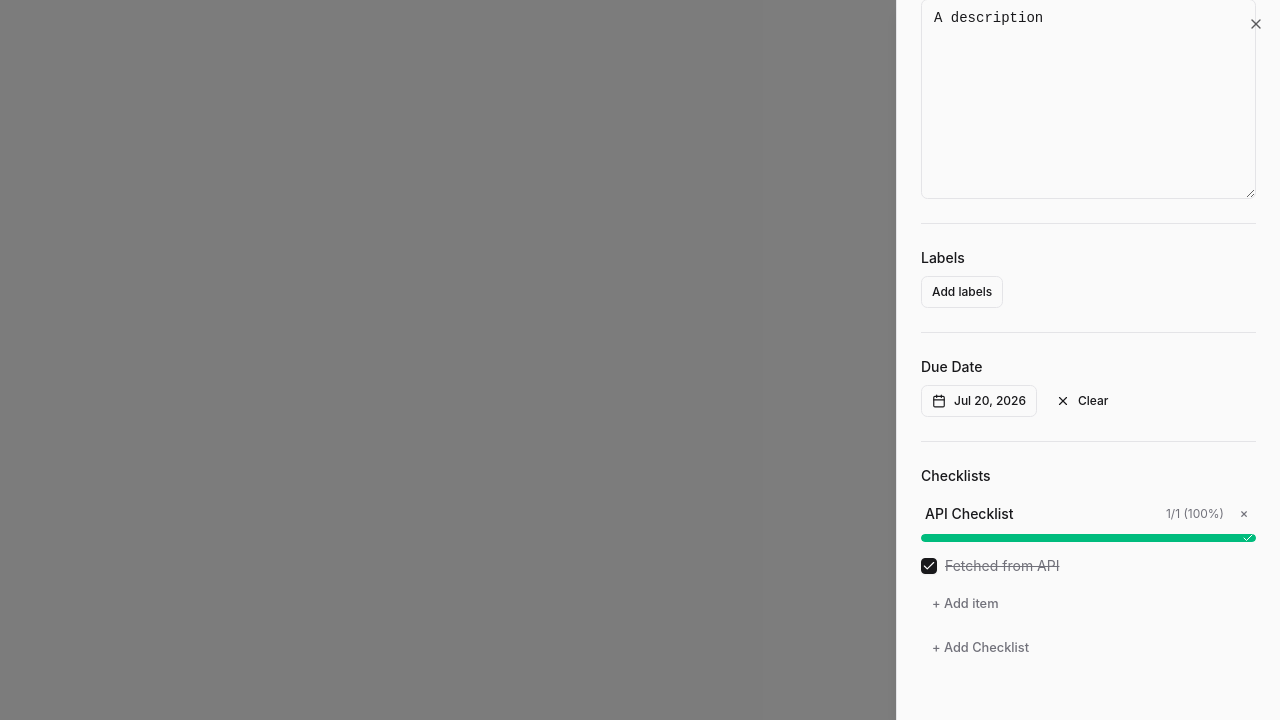
it: CardDetailPanel › shows the add checklist button and opens the form
(page scrolled)
Step 1. Click the button "+ Add Checklist" → point(980, 648), box [921,634,1256,662]
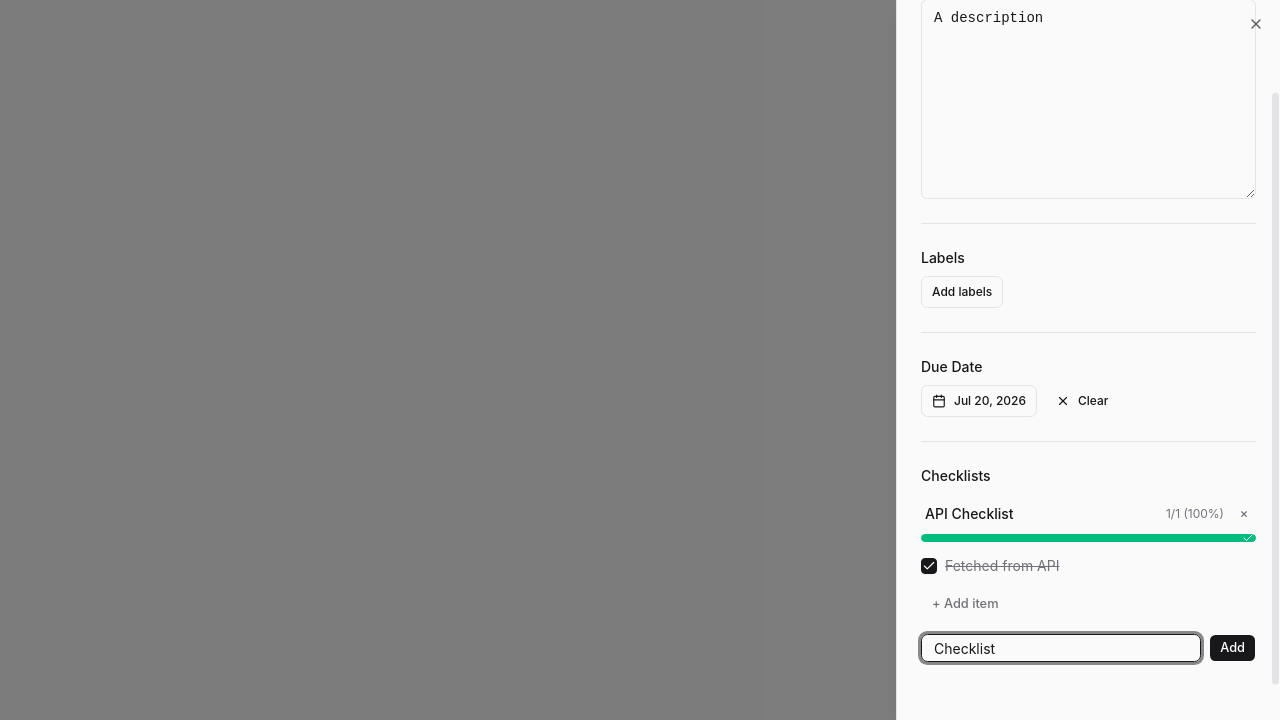
Now the field with placeholder "Checklist title..." is shown, box [921,634,1201,662]
